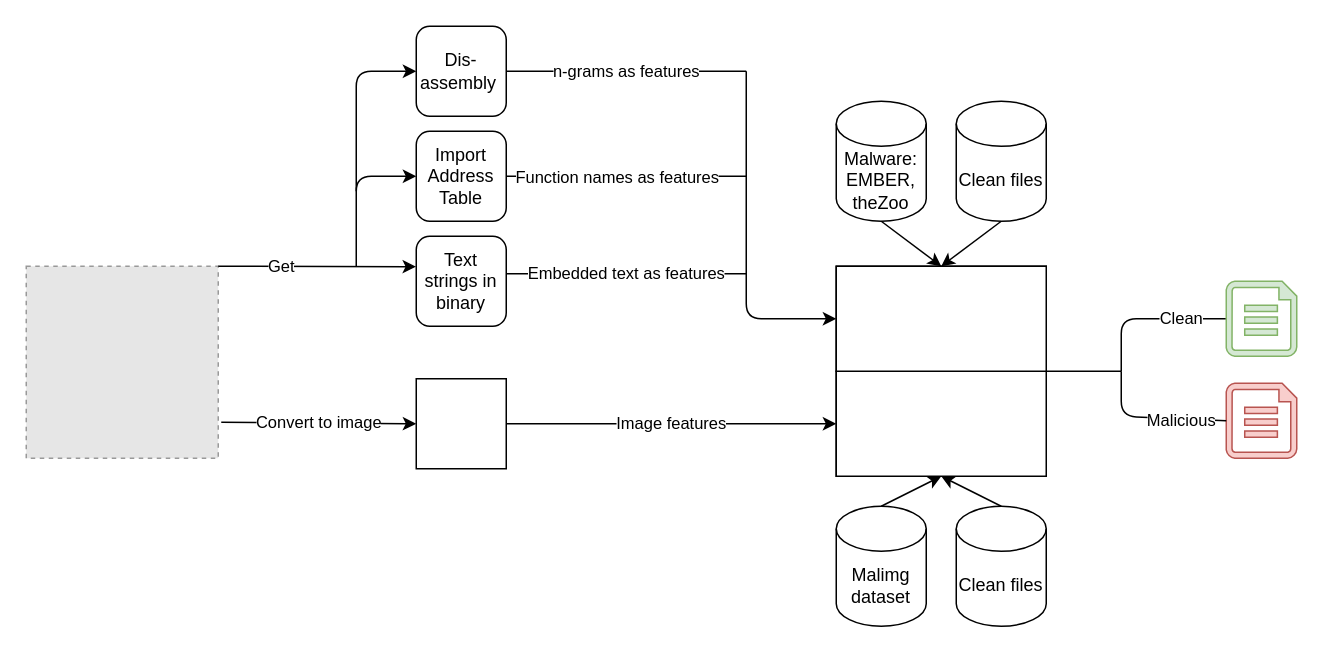
Image size: 1323x653. Some labels were removed from this diagram. Grey dashed boxes stand in for pictures. The shapes that lost their labels are listed below. From the top down, each one's centre as x and y in pixels, then its label:
At (940,318): "Random Forest Classifier".
At (460,423): "PNG".
At (940,423): "Convolutional neural network".
